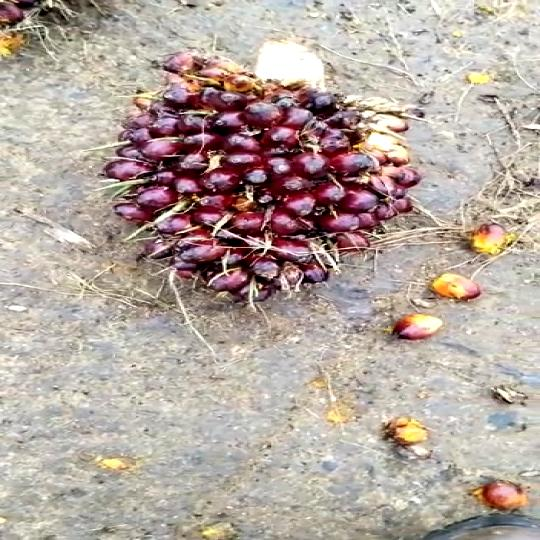kurang masak: (78, 36, 436, 322)
